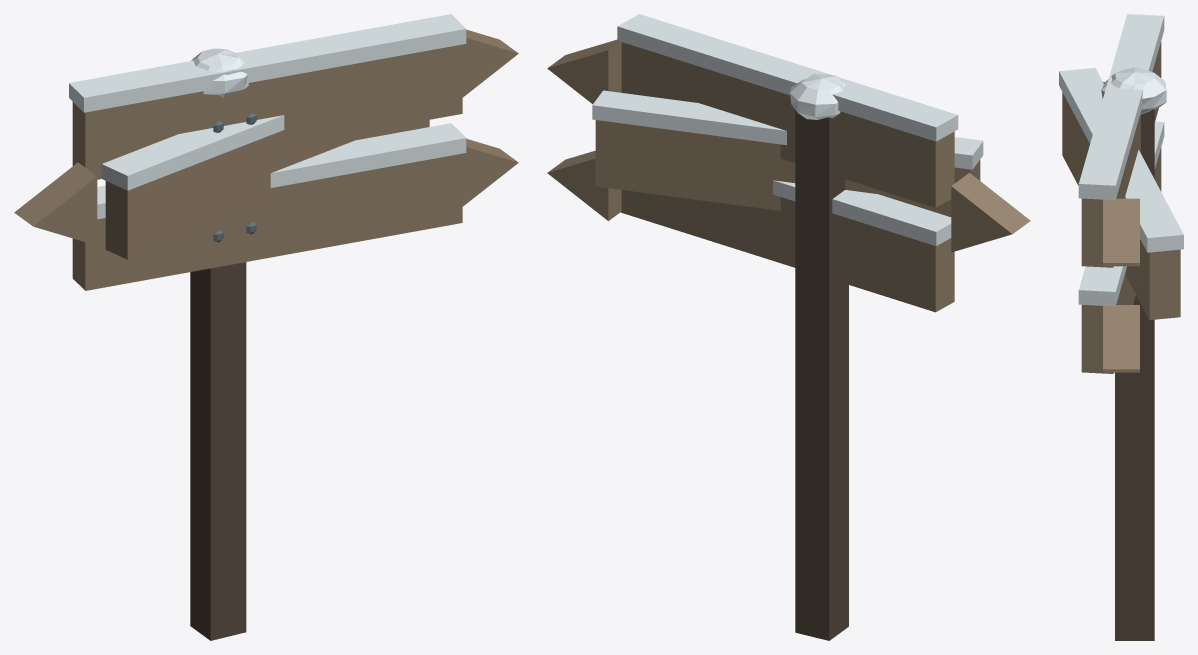
The model's file is PROP_05_DirectionSignSnowy.glb.
The picture shows the model from 3 angles, left to right: view 1: azimuth 30°, elevation 25°; view 2: azimuth 150°, elevation 25°; view 3: azimuth 270°, elevation 25°; orthographic projection. The views are drawn at different scales.
Visible parts, largest first — view 1: PROP_05_DirectionSignSnowy; view 2: PROP_05_DirectionSignSnowy; view 3: PROP_05_DirectionSignSnowy.
Boxes of the visible parts, bbox=[...] form: PROP_05_DirectionSignSnowy: bbox=[14, 14, 518, 640]; PROP_05_DirectionSignSnowy: bbox=[547, 14, 1030, 640]; PROP_05_DirectionSignSnowy: bbox=[1059, 14, 1183, 640].
Size of the model in its own units: 2.05 by 2.32 by 0.4683.
